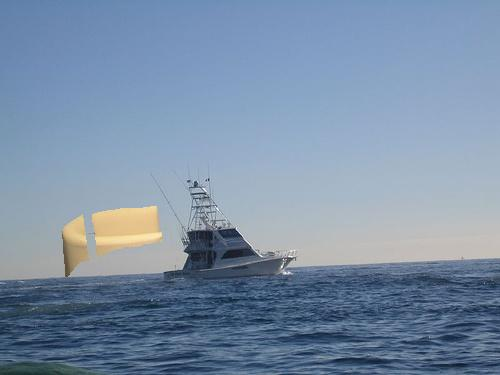tampered: (63, 207, 162, 277)
